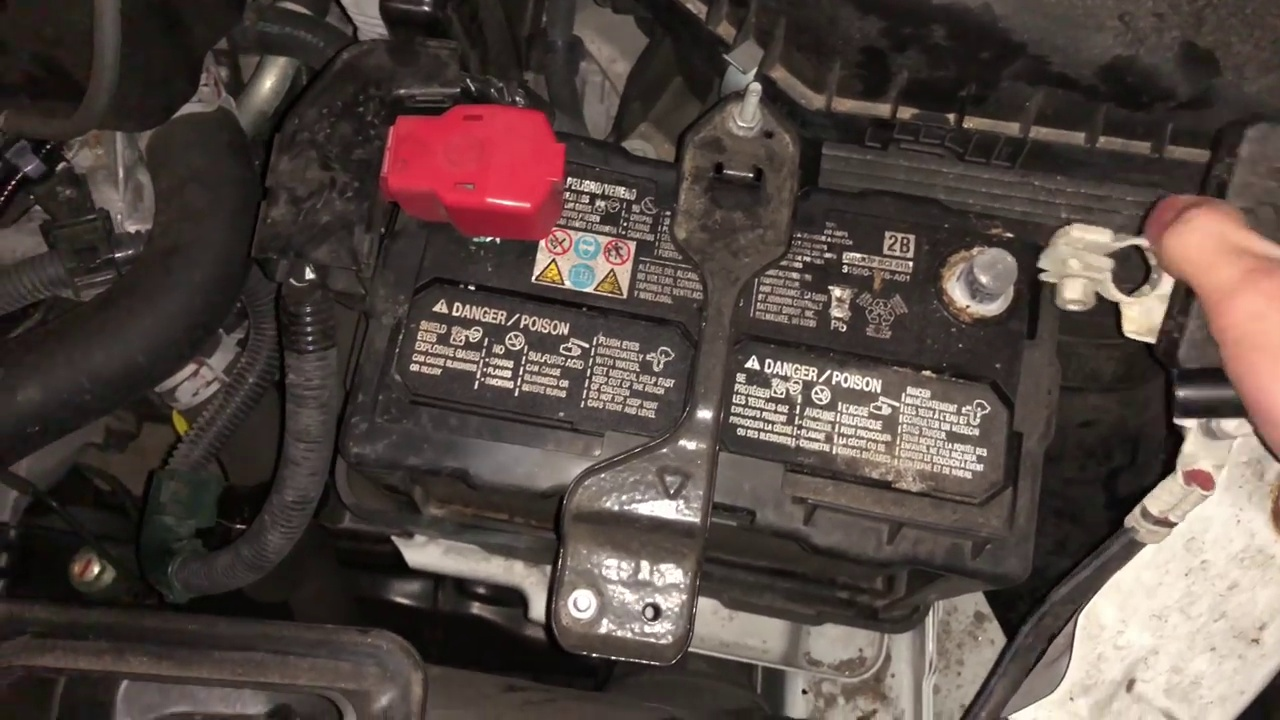battery: (369, 81, 1046, 589)
neg_disconnected: (900, 201, 1154, 358)
pos_connected: (338, 87, 618, 255)
